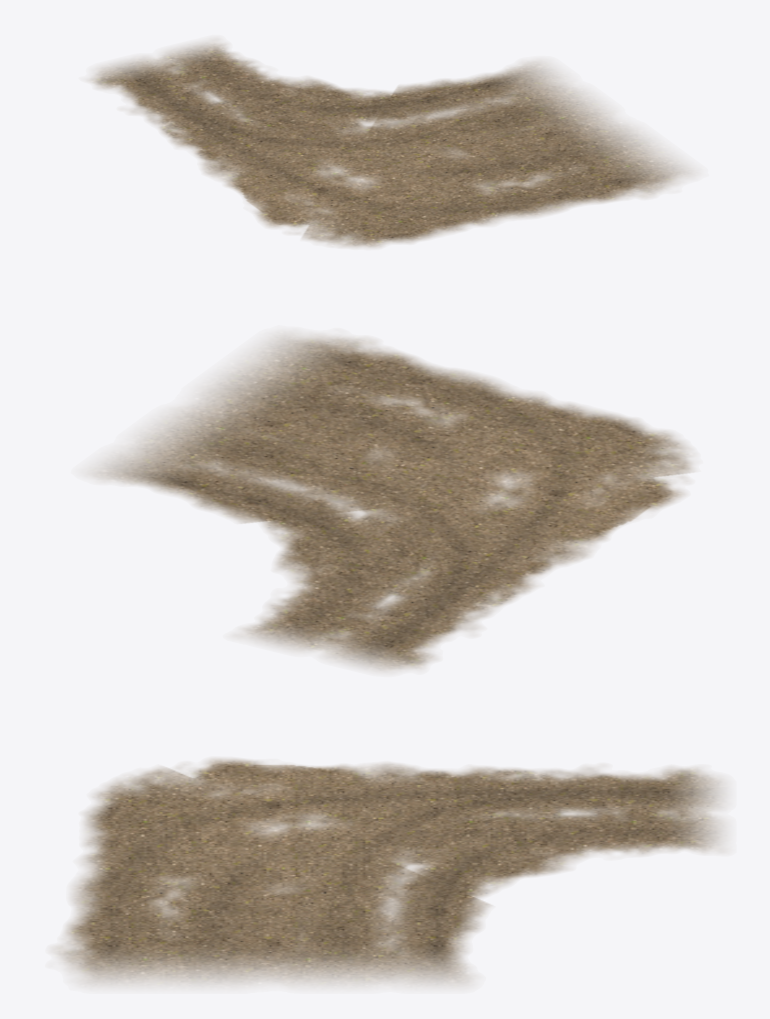
File: road_bend_street_drive.glb
3 views of the same model, one above another, from view 1: azimuth 30°, elevation 25°; view 2: azimuth 150°, elevation 25°; view 3: azimuth 270°, elevation 25° (orthographic). The views are drawn at different scales.
Parts seen in each view (by area): view 1: road_bend_street_drive; view 2: road_bend_street_drive; view 3: road_bend_street_drive.
Part boxes in pixels (left/top/right/bottom): road_bend_street_drive: left=88, top=40, right=693, bottom=247; road_bend_street_drive: left=89, top=333, right=693, bottom=671; road_bend_street_drive: left=53, top=758, right=724, bottom=985.
Size of the model in its own units: 9.84 by 0 by 11.4.
1 material, 1 textured.
